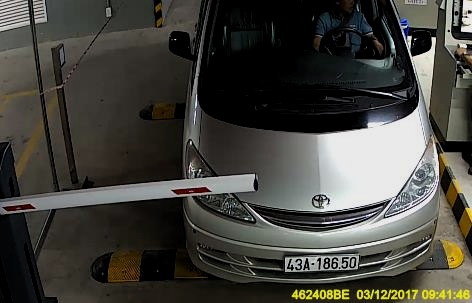plate: (284, 251, 361, 274)
